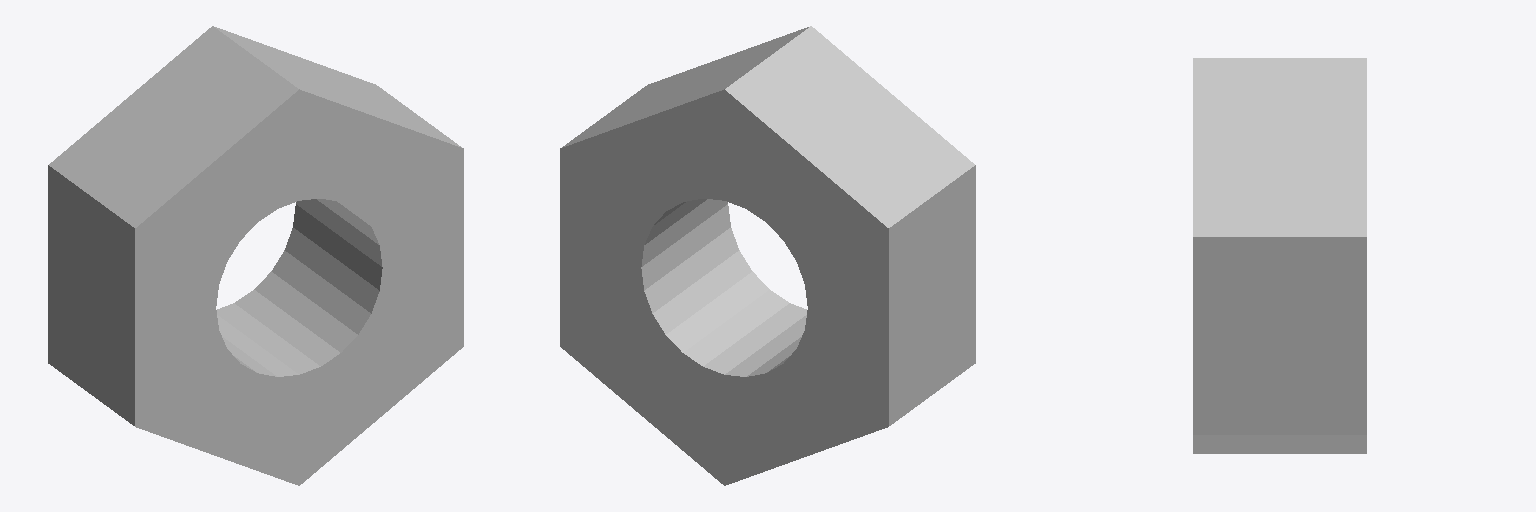
The model's file is _0633A411_Low_Strength_Steel_Thin_Nylon_Insert_Locknut_03__0633A411_Low_Strength_Steel_Thin_Nylon_Insert_Locknut.obj.
3 renders of one model, left to right at view 1: azimuth 30°, elevation 25°; view 2: azimuth 150°, elevation 25°; view 3: azimuth 270°, elevation 25°, orthographic.
Bounding box in the file's own units: 0.0095 × 0.011 × 0.0044.